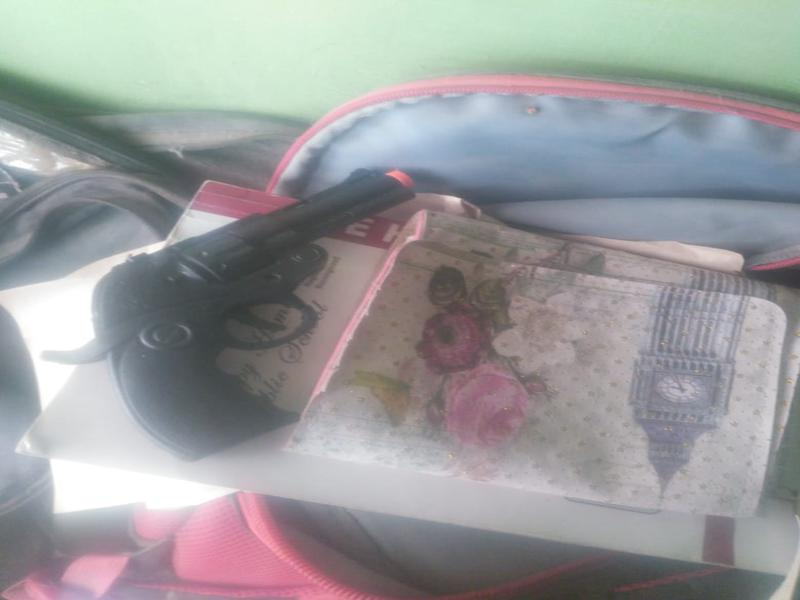gun: (39, 144, 427, 475)
